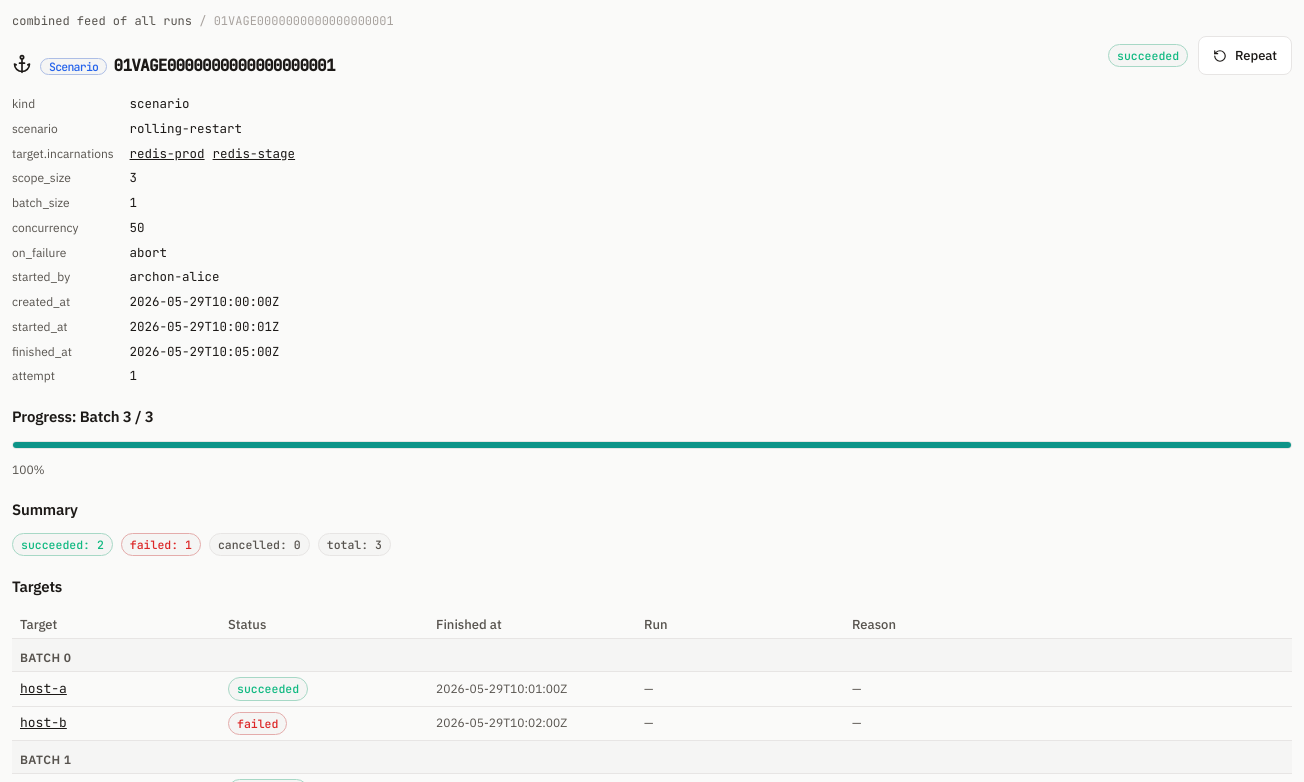
Test case: VoyageDetail › click "succeeded" → only succeeded targets visible
Expected: the element with test id "voyage-summary-counts" is shown, [12,533,391,556]
Click the element showing "succeeded: 2": [62, 545] box [12,533,113,556]
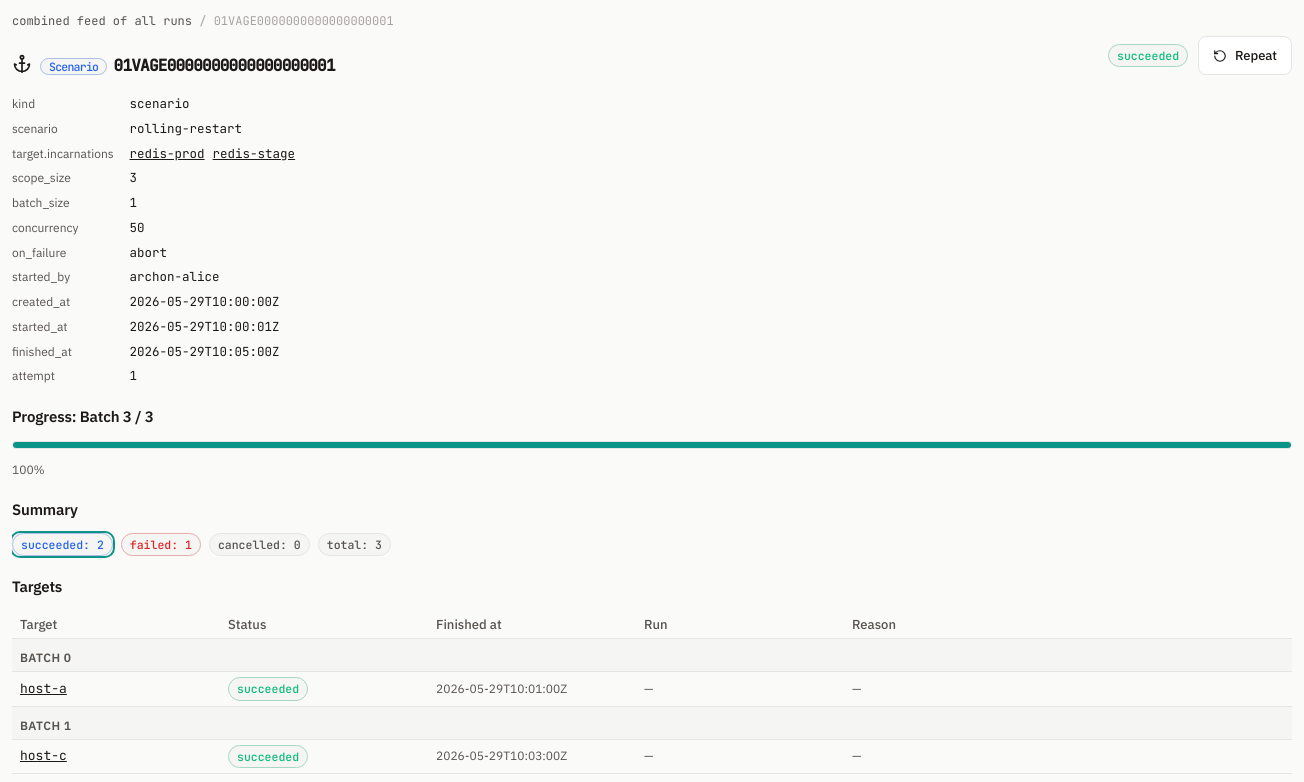
Expected: the link "host-a" is shown, [20,680,67,697]
Expected: the link "host-b" is gone
